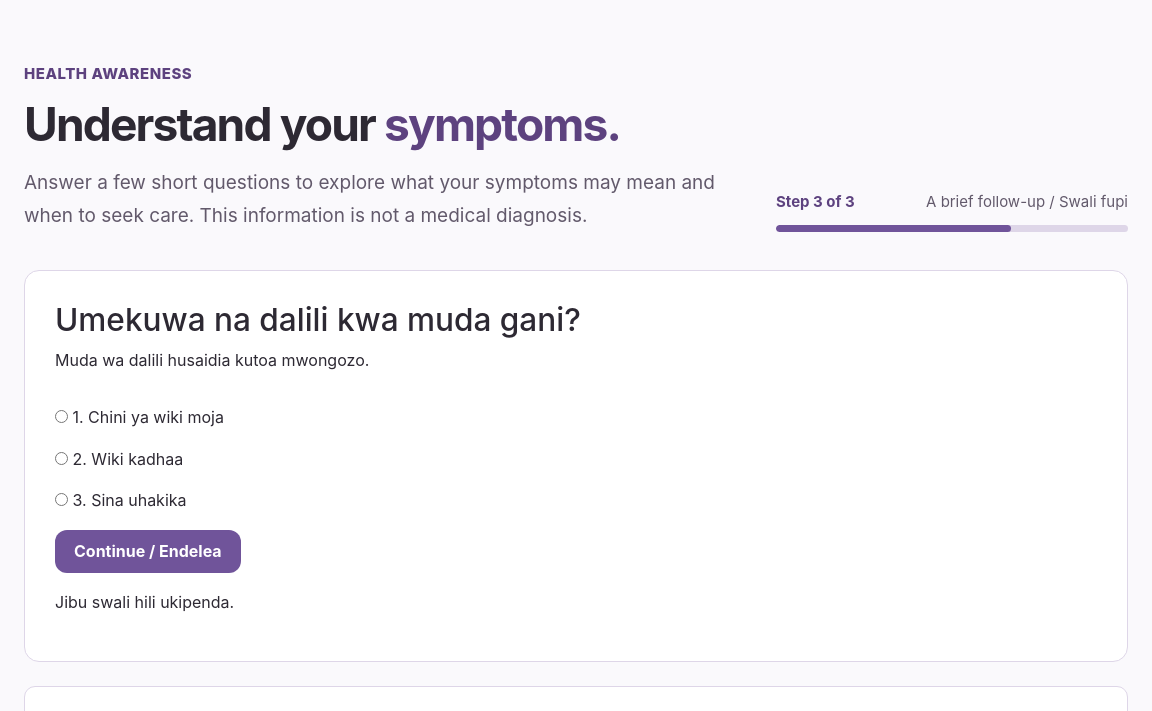
Test: Targeted assessment follow-ups › validates selection before making a request
This screenshot has width=1152, height=711.
Click the button "Continue / Endelea".
click(148, 551)  # box [55,530,241,573]
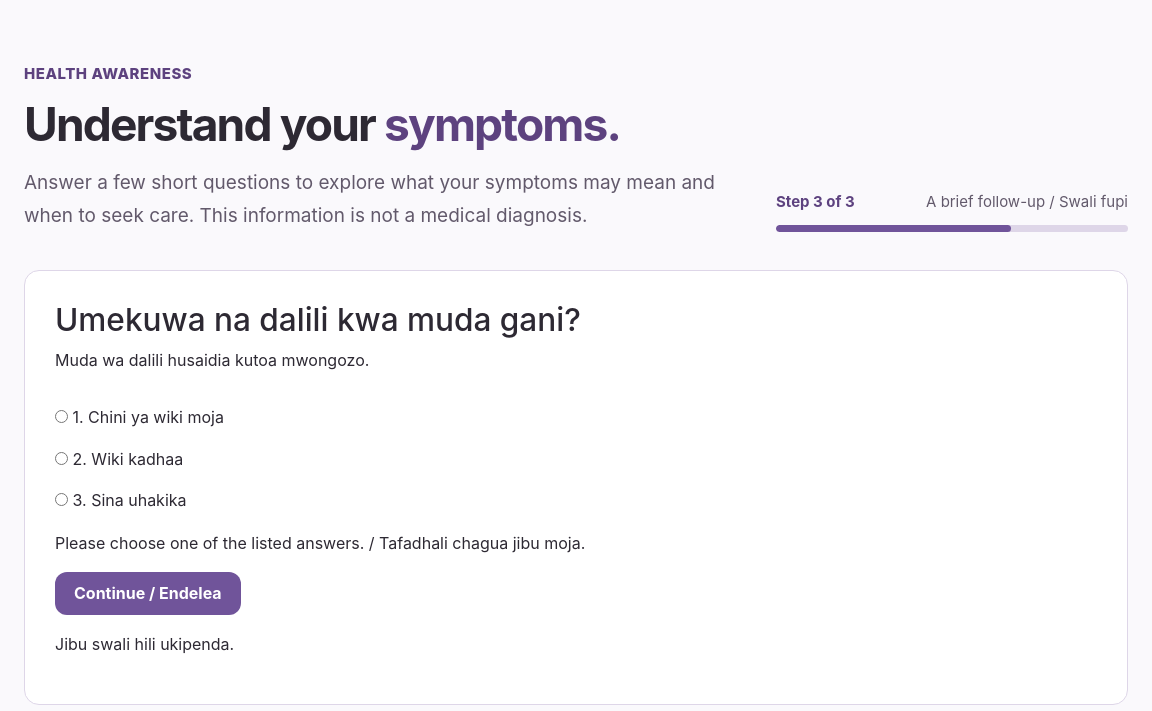
Check: the message shows "Please choose one of the listed answers", box [55,533,585,553]
